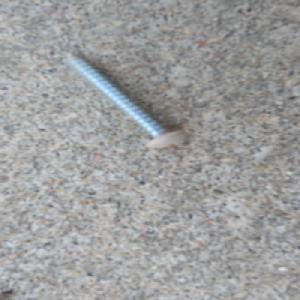Screw: (58, 47, 190, 149)
